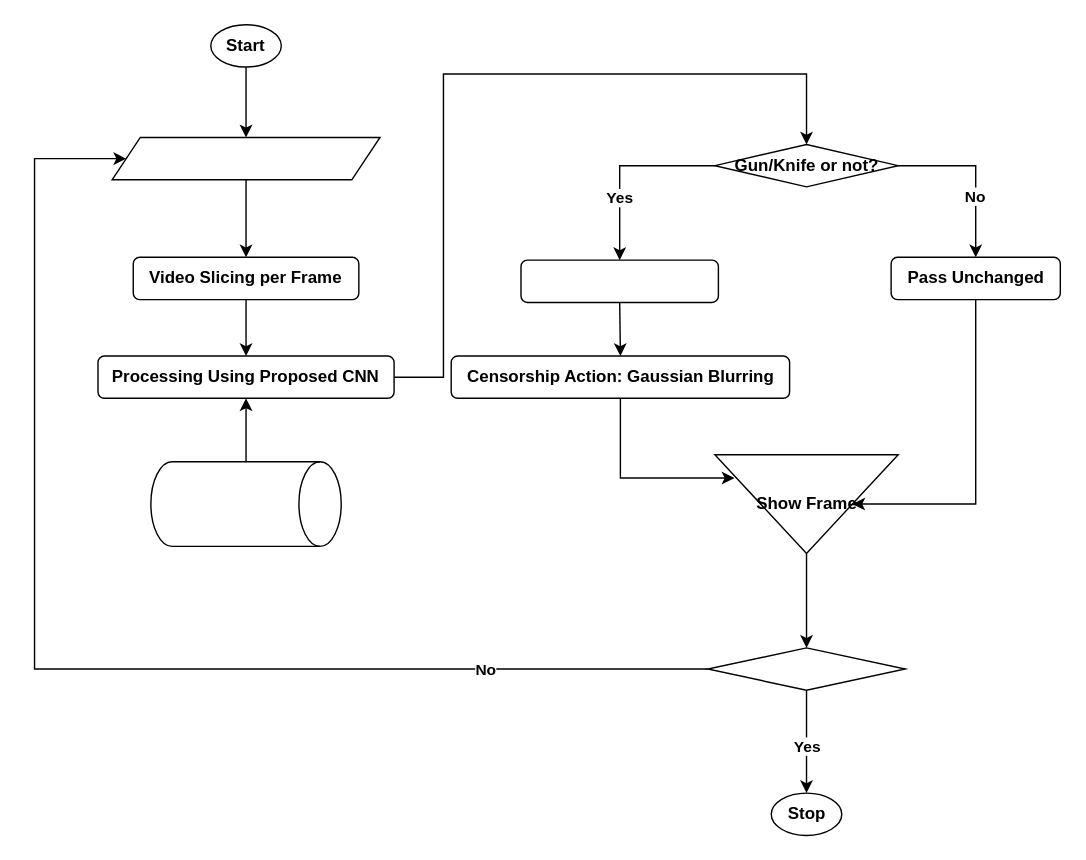
Some shapes in this 1086 by 860 pixel diagram are drawn without their labels. Here are the shapes that lost their labels. From the top down, the box of each, then its label:
(111, 136, 380, 180): Livestream Input via Camera
(520, 259, 718, 302): Apply Bounding Box
(149, 460, 341, 546): Pre-Trained Model
(706, 646, 905, 690): Hit 'esc' key or not?
